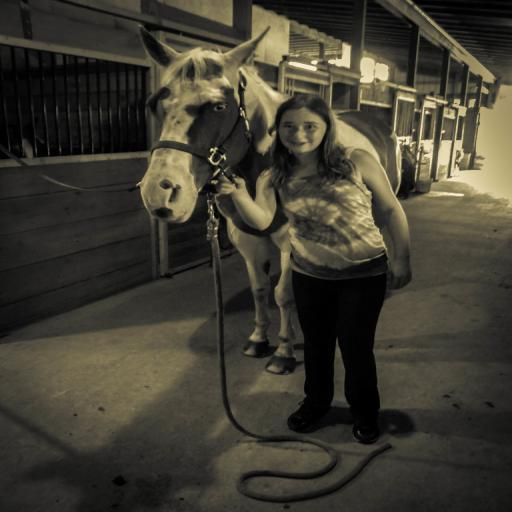Horse: (136, 22, 402, 375)
